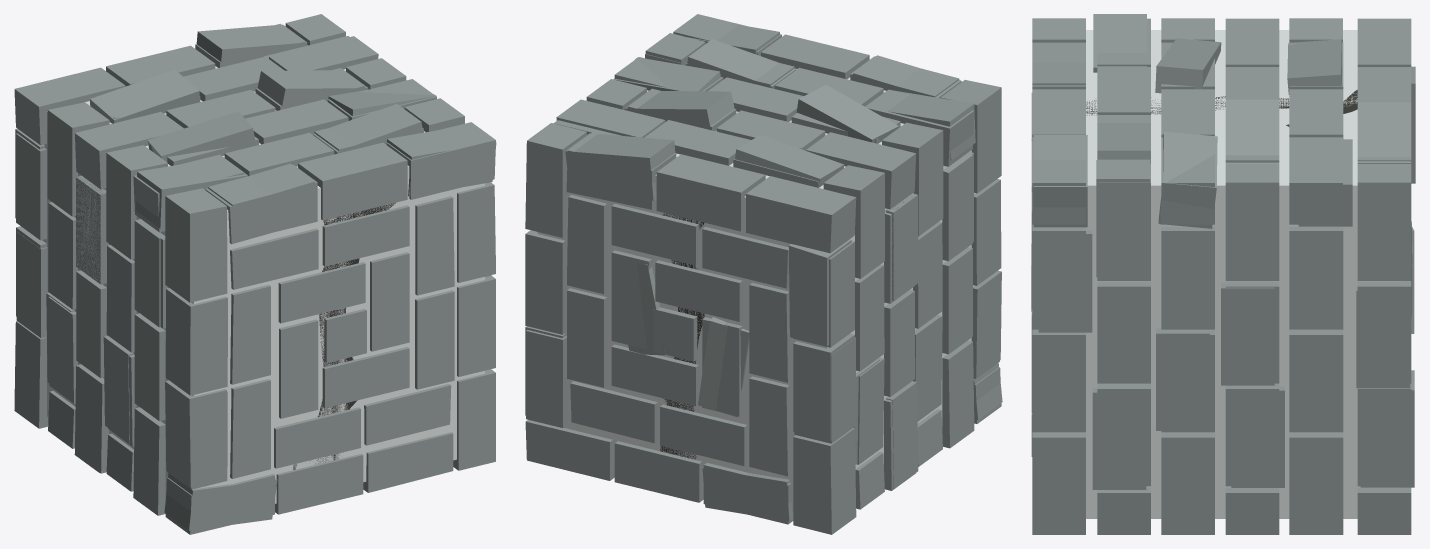
The model's file is bricks.fbx.
3 views of the same model, side by side, from view 1: azimuth 30°, elevation 25°; view 2: azimuth 150°, elevation 25°; view 3: azimuth 270°, elevation 25° (orthographic). The views are drawn at different scales.
Parts seen in each view (by area): view 1: DestroyedBricks, Bricks; view 2: DestroyedBricks, Bricks; view 3: DestroyedBricks, Bricks.
Boxes of the visible parts, x1,y1,x2,y2 form: DestroyedBricks: (14, 14, 496, 530); Bricks: (16, 23, 495, 534); DestroyedBricks: (525, 25, 1002, 534); Bricks: (525, 14, 1001, 524); DestroyedBricks: (1031, 14, 1415, 534); Bricks: (1031, 18, 1412, 486).
Size of the model in its own units: 191 by 208 by 188.
